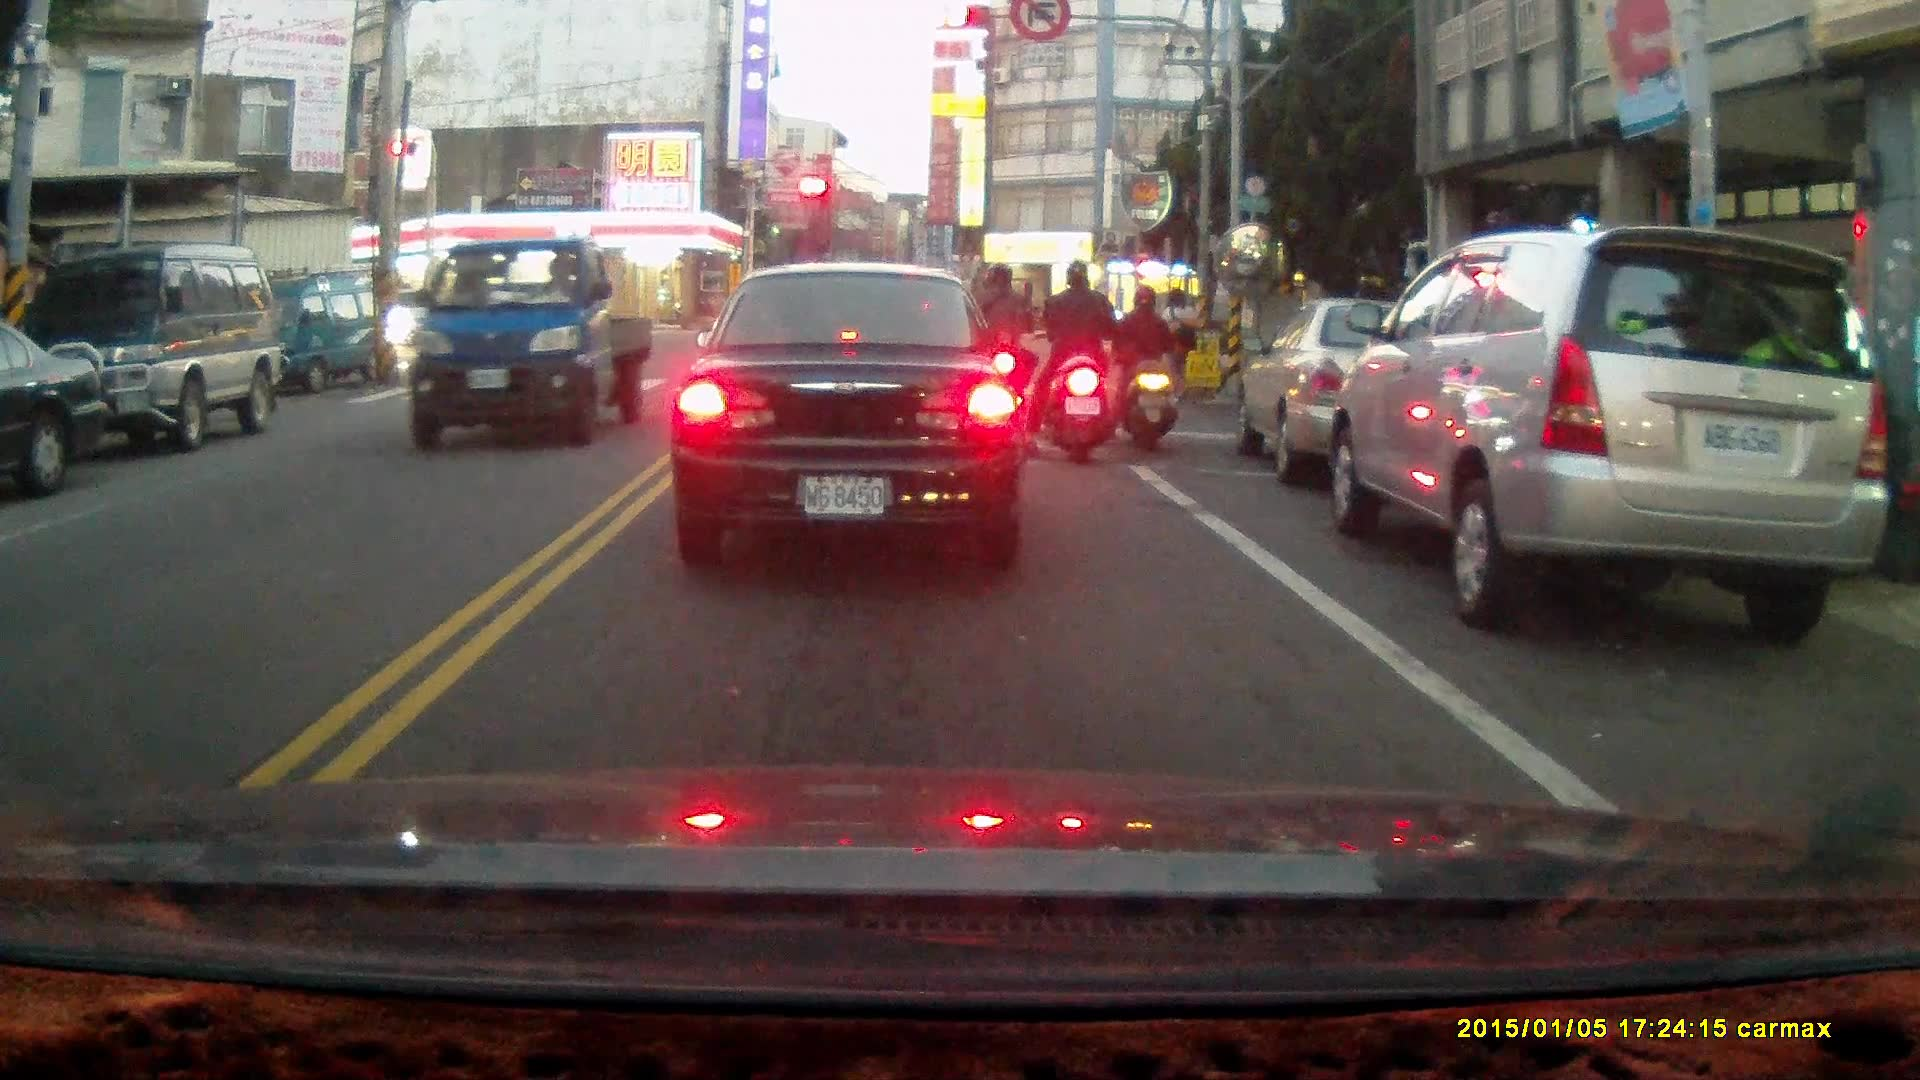pedestrian: (1155, 285, 1200, 406)
rider: (1030, 259, 1127, 462), (964, 261, 1037, 437), (1114, 281, 1180, 449)
vehicle: (1328, 225, 1893, 638), (671, 258, 1030, 566), (8, 237, 281, 458), (1241, 297, 1509, 492), (412, 239, 656, 447), (247, 270, 410, 401), (1, 322, 116, 500)
